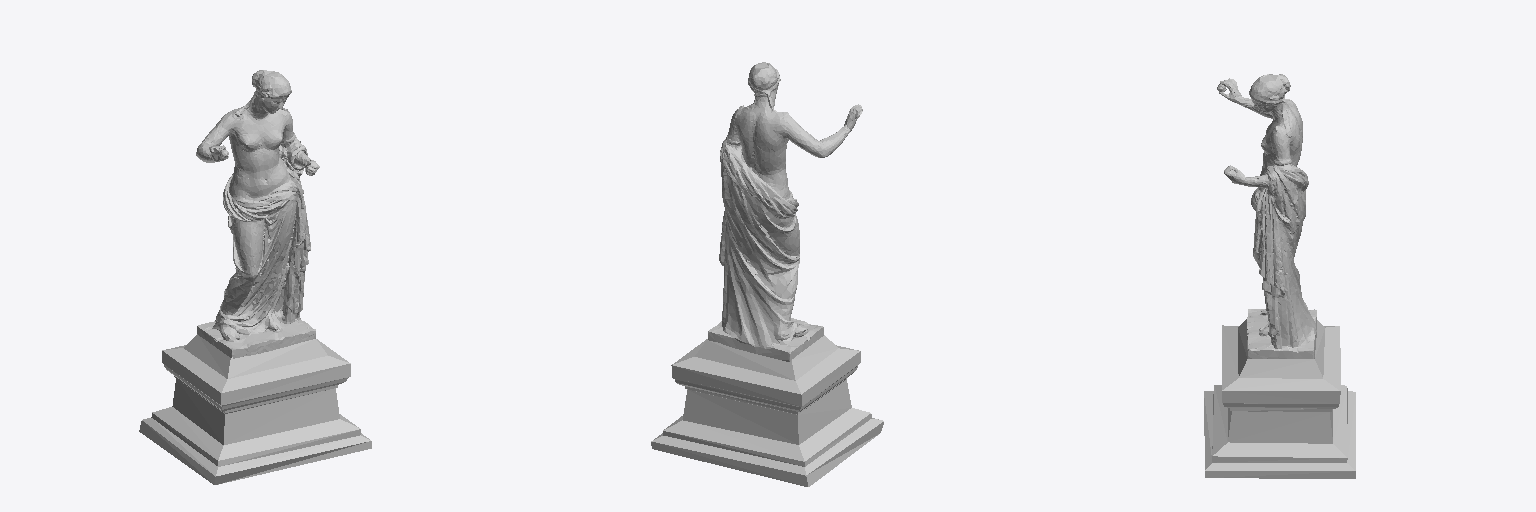
The model's file is estatua1.obj.
3 renders of one model, left to right at view 1: azimuth 30°, elevation 25°; view 2: azimuth 150°, elevation 25°; view 3: azimuth 270°, elevation 25°, orthographic.
Visible parts, largest first — view 1: Object_2; view 2: Object_2; view 3: Object_2.
Part boxes in pixels (left/top/right/bottom): Object_2: left=139, top=70, right=371, bottom=484; Object_2: left=651, top=62, right=883, bottom=486; Object_2: left=1204, top=74, right=1355, bottom=478.
Size of the model in its own units: 7.24 by 16.22 by 6.08.